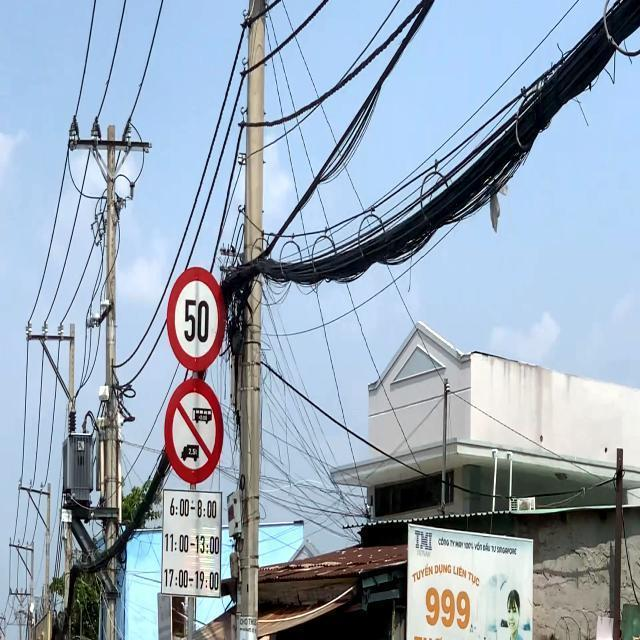127-toc-do-toi-da-50: (167, 268, 225, 366)
